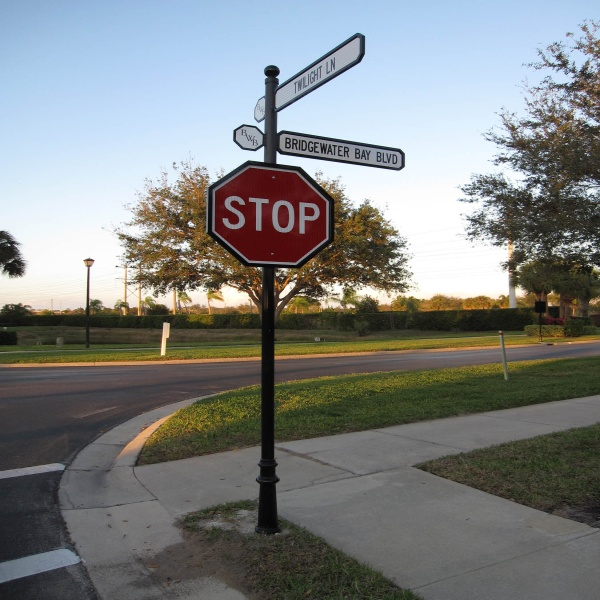stop: (497, 227, 576, 357)
